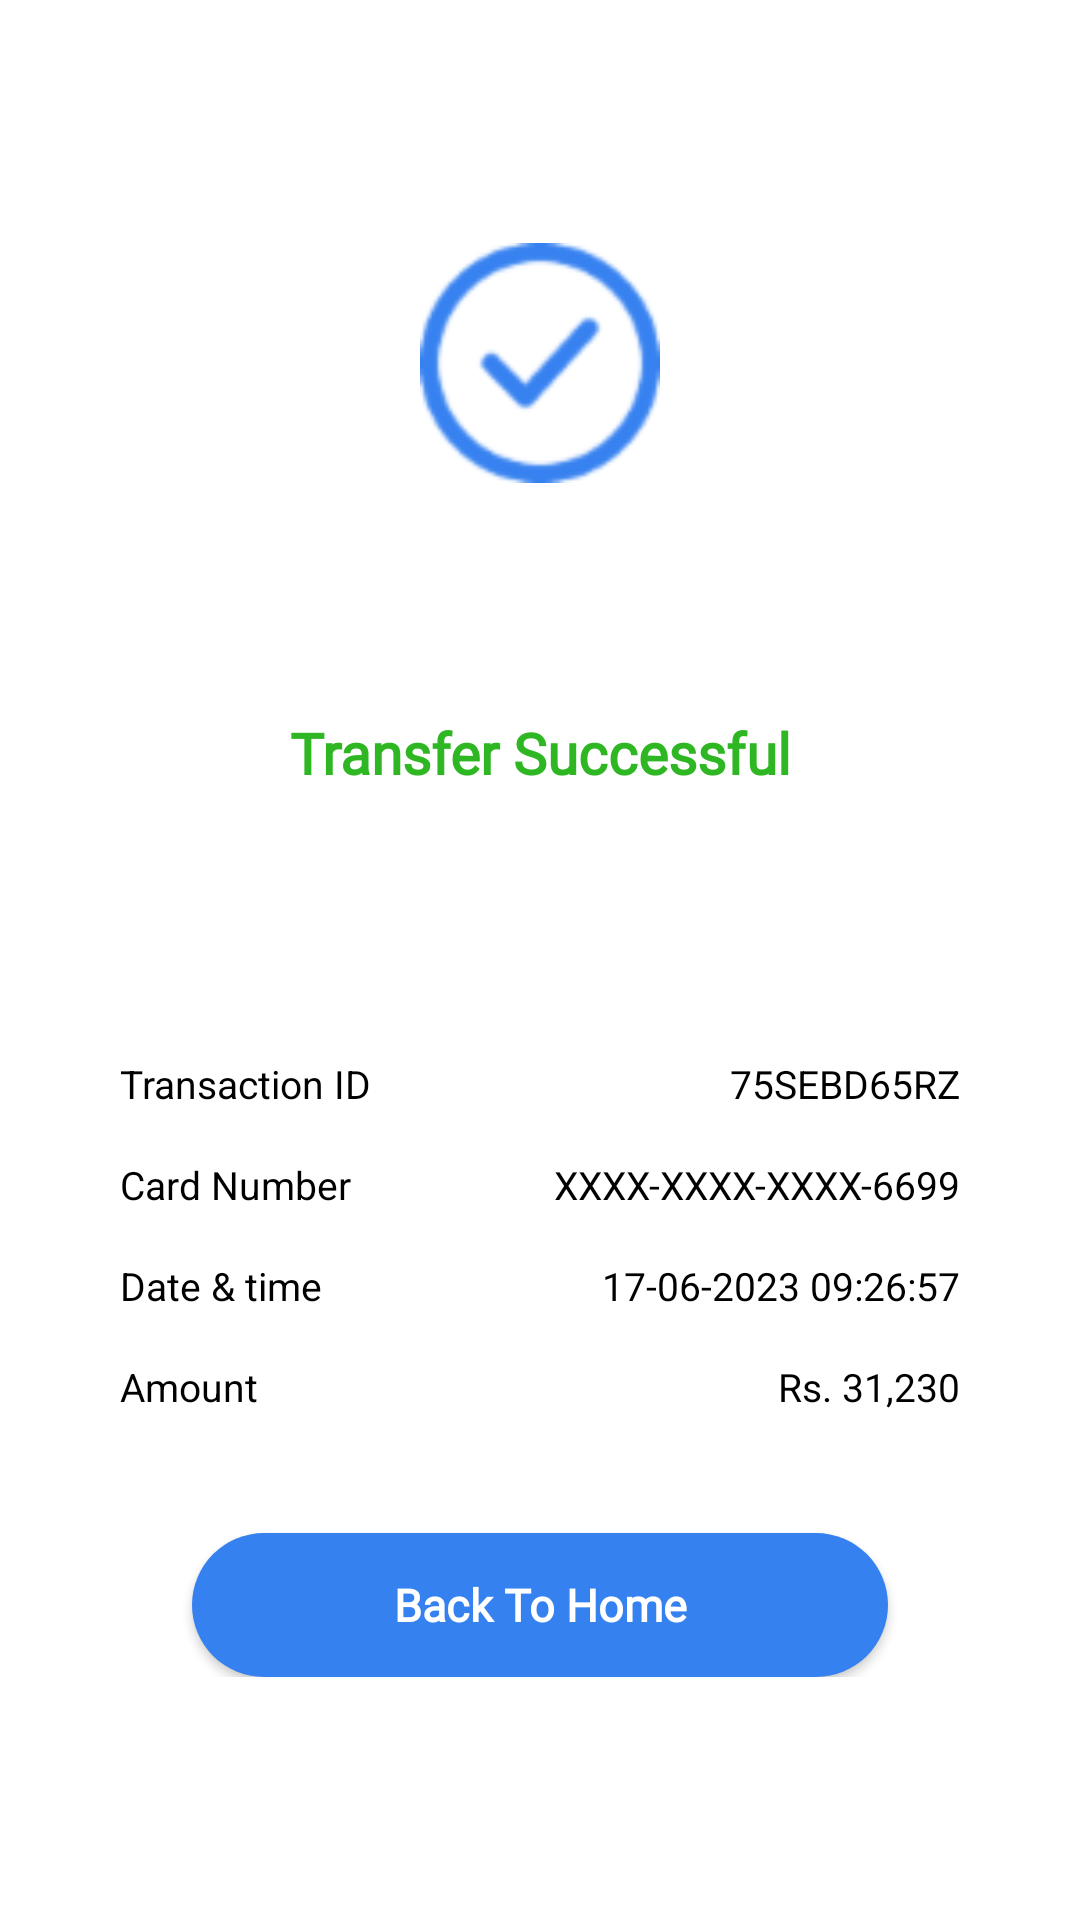

Point at icon controls on the screen. Image size 1080px x 1920px, points as (x=x, y=y).
success: (x=540, y=363)
